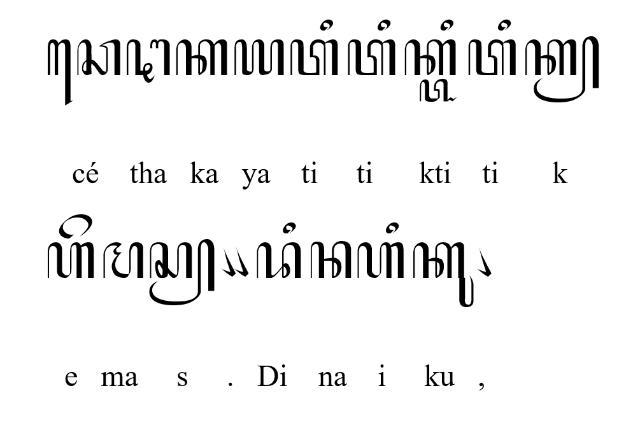-k: (524, 35, 600, 102)
-s: (149, 239, 215, 305)
_t: (419, 80, 456, 102)
c: (76, 39, 122, 75)
d: (256, 241, 300, 278)
e: (59, 214, 92, 240)
e1: (47, 40, 73, 106)
h: (356, 242, 404, 280), (48, 241, 94, 278)
i: (377, 19, 391, 31), (282, 222, 296, 234), (385, 222, 399, 234), (441, 19, 454, 31), (498, 19, 512, 30), (320, 19, 332, 30)
k: (176, 38, 228, 76), (405, 38, 457, 76)
kom: (221, 248, 235, 278), (234, 248, 248, 278), (478, 248, 492, 278)
ku: (412, 242, 474, 308)
m: (102, 241, 144, 278)
n: (310, 241, 352, 279)
t: (290, 38, 338, 76), (347, 38, 395, 76), (468, 38, 516, 76)
th: (126, 39, 170, 83)
y: (233, 39, 284, 75)
